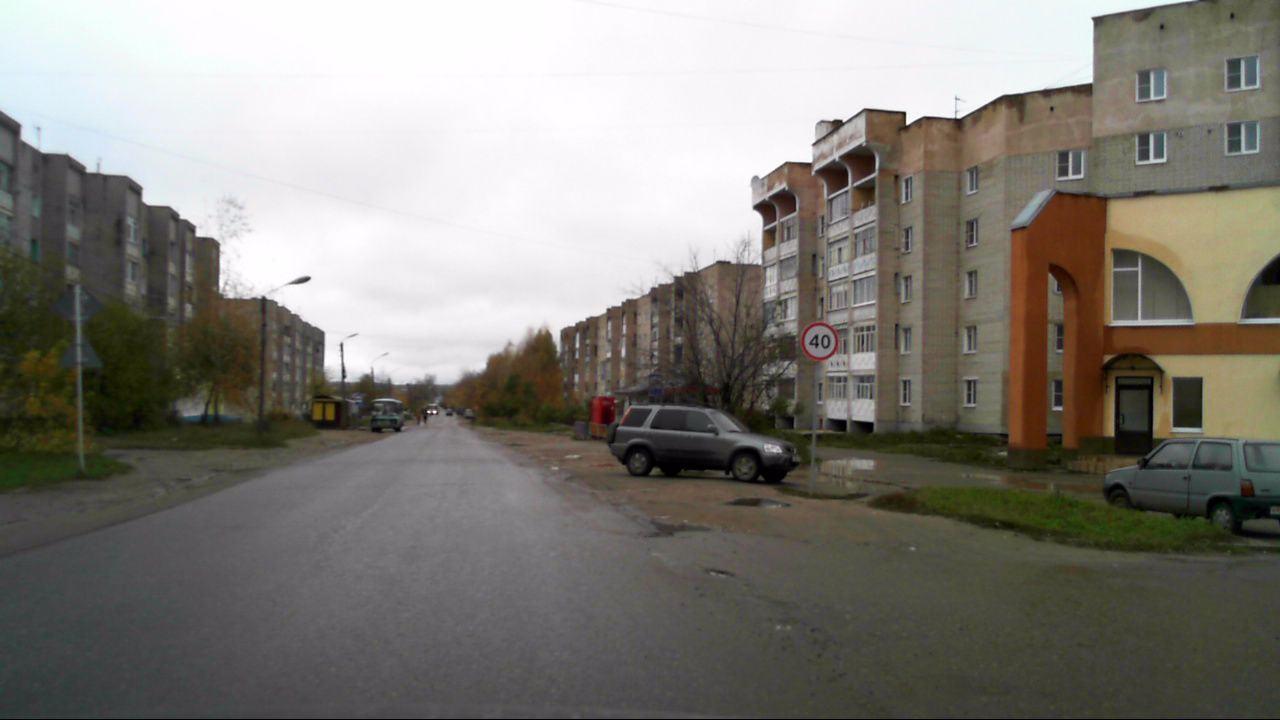speed_warning_40: (798, 321, 840, 361)
